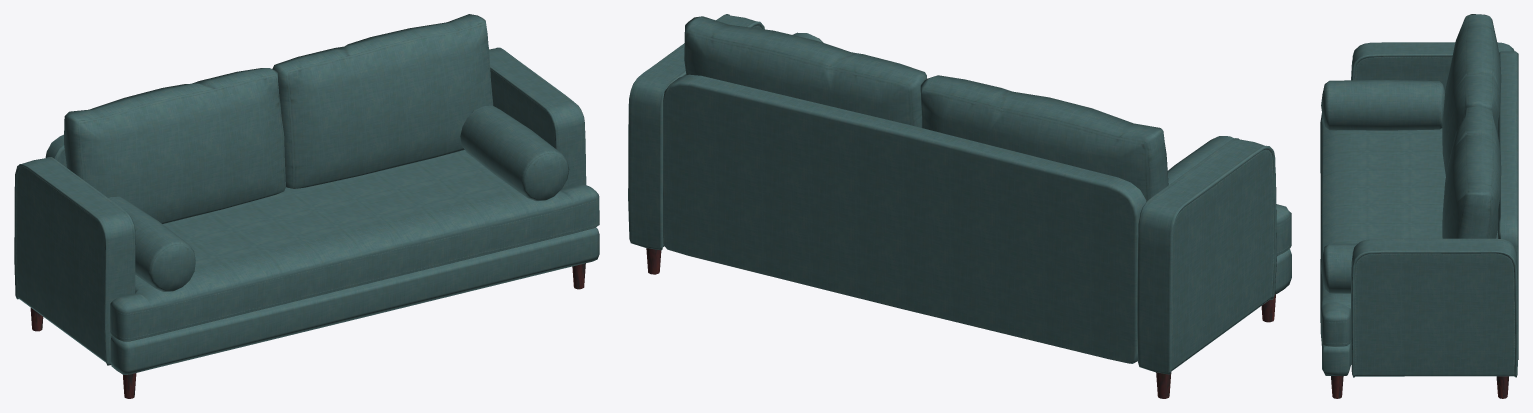
File: sofa.obj
The picture shows the model from 3 angles, left to right: view 1: azimuth 30°, elevation 25°; view 2: azimuth 150°, elevation 25°; view 3: azimuth 270°, elevation 25°; orthographic projection. The views are drawn at different scales.
Visible parts, largest first — view 1: sofa; view 2: sofa; view 3: sofa.
Part boxes in pixels (box(x1,y1,x2,y2)): sofa: box(14, 14, 599, 398); sofa: box(628, 14, 1291, 398); sofa: box(1320, 14, 1518, 398).
Size of the model in its own units: 253 by 110 by 101.
